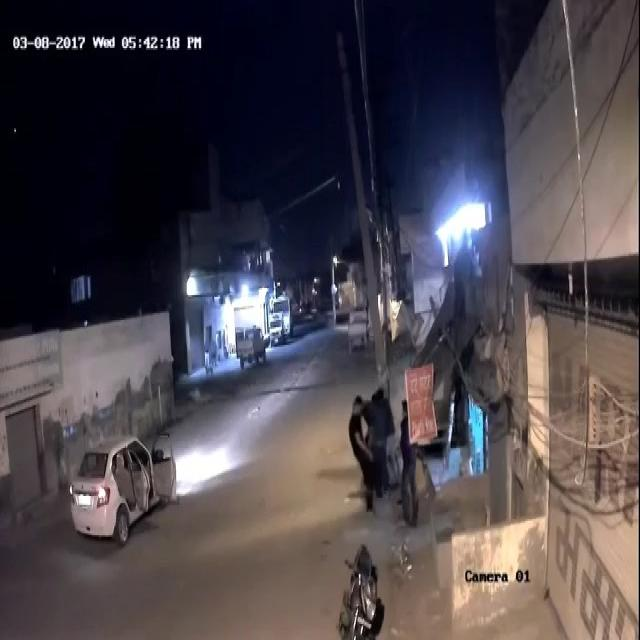fight: (350, 387, 391, 516)
